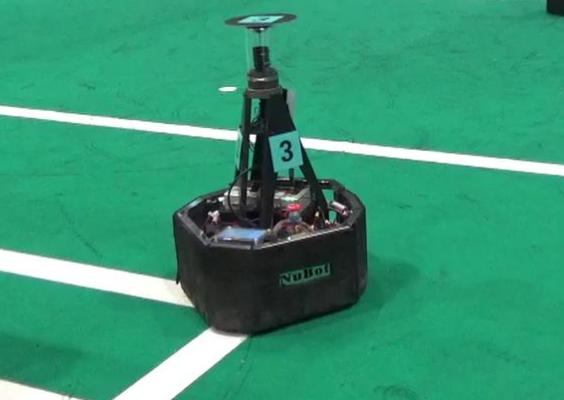robot: (169, 10, 379, 334)
